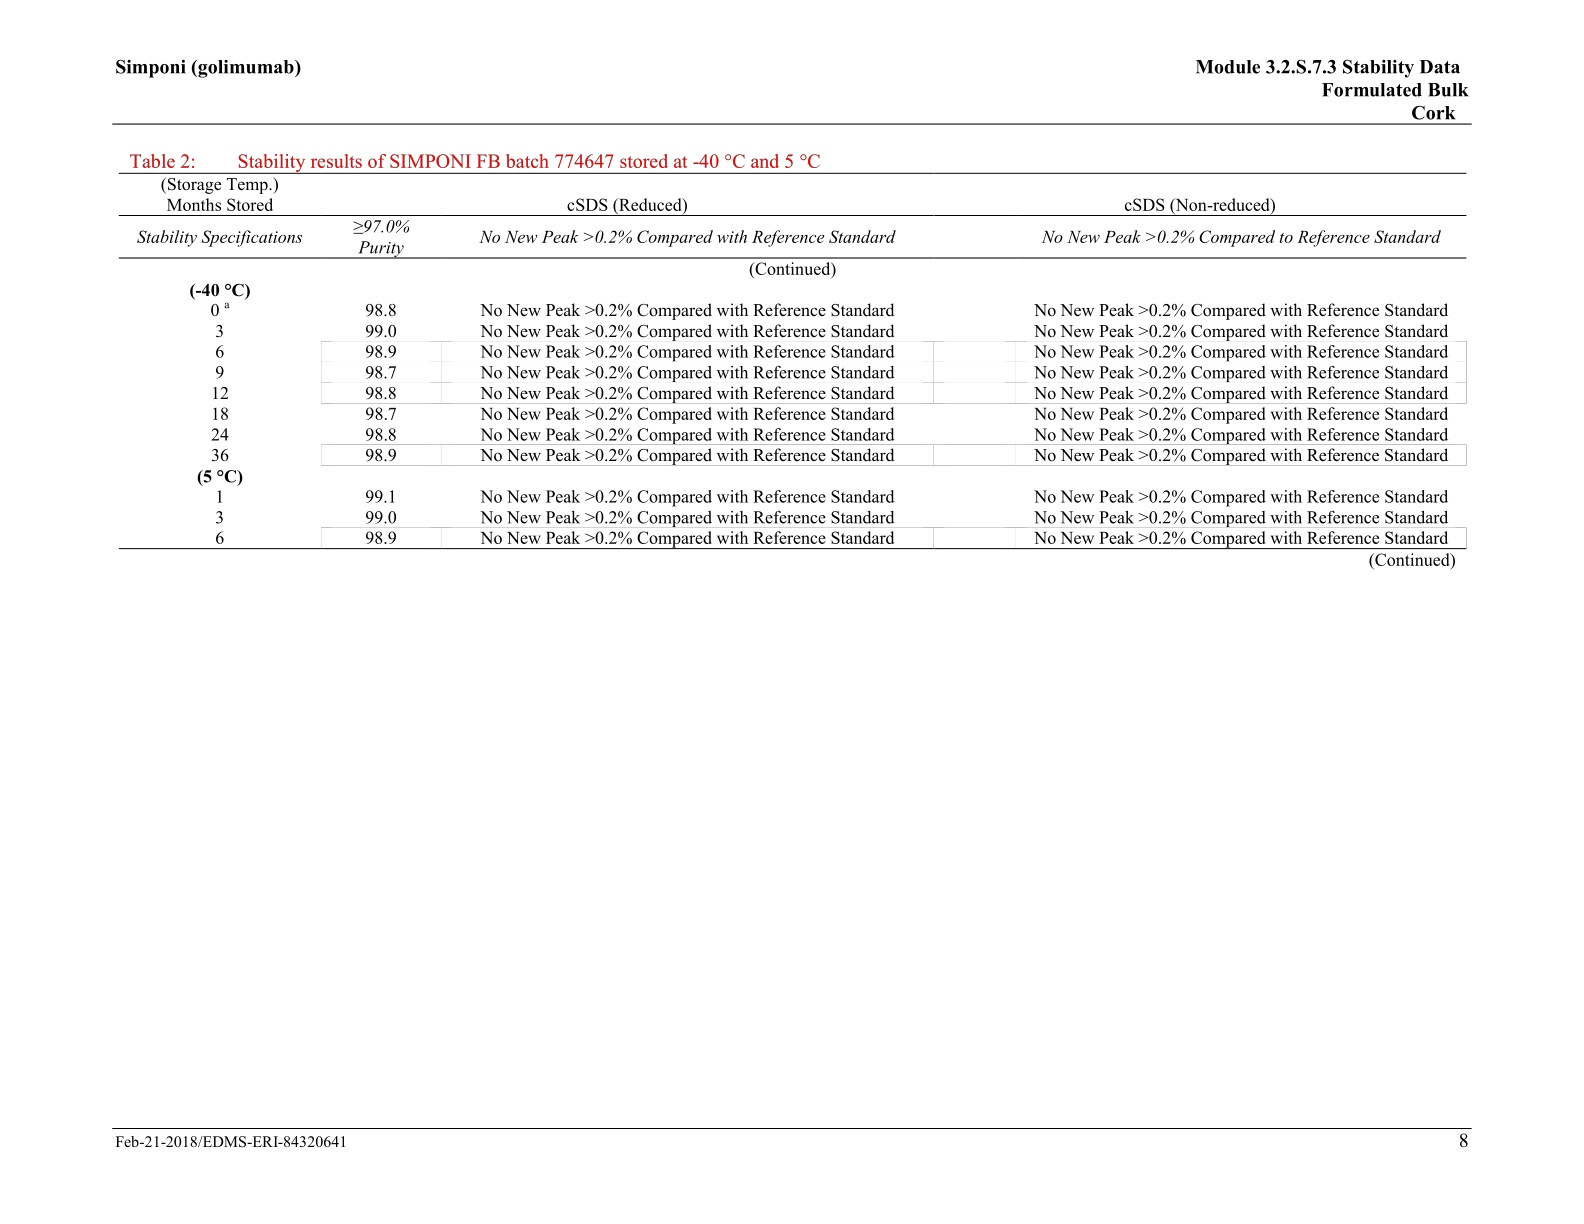partial_lined: (118, 171, 1467, 552)
